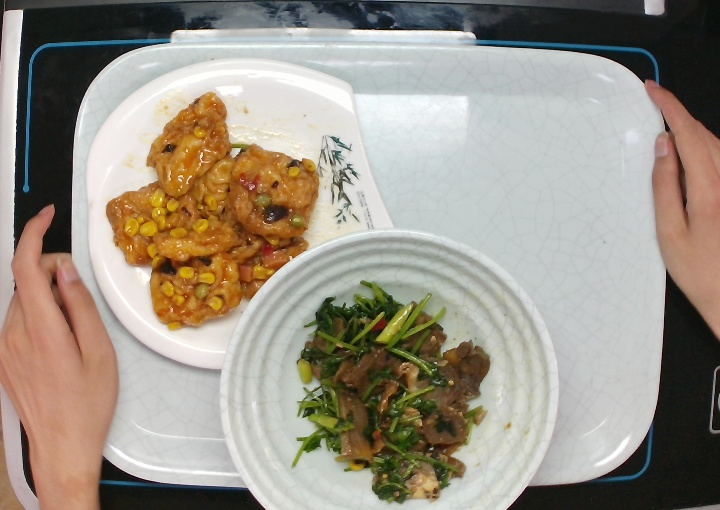JYsf-Da_Tang_Wan: (219, 226, 560, 510)
JYsf-Mian_Pan: (82, 56, 398, 373)
